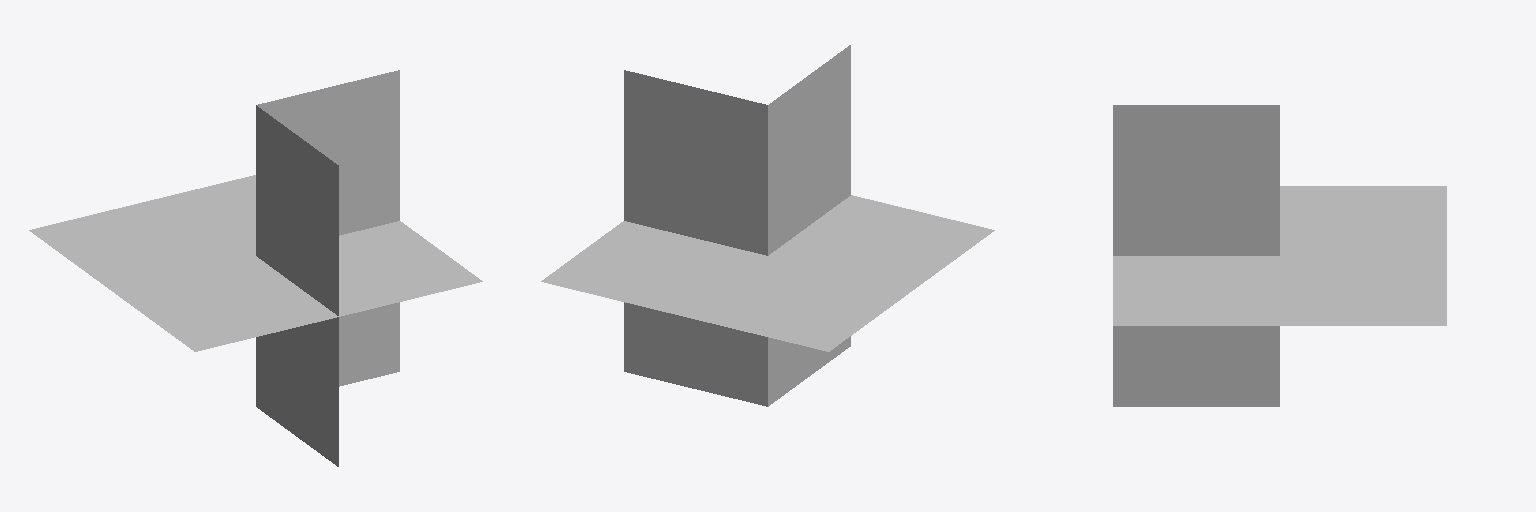
The picture shows the model from 3 angles: view 1: azimuth 30°, elevation 25°; view 2: azimuth 150°, elevation 25°; view 3: azimuth 270°, elevation 25°; orthographic projection.
Parts seen in each view (by area): view 1: 0111_1000_立方体.088; view 2: 0111_1000_立方体.088; view 3: 0111_1000_立方体.088.
Part boxes in pixels (x1,y1,x2,y2): 0111_1000_立方体.088: (29, 70, 482, 466); 0111_1000_立方体.088: (541, 45, 994, 406); 0111_1000_立方体.088: (1113, 105, 1446, 406).
Bounding box in the file's own units: 1 × 1 × 1.